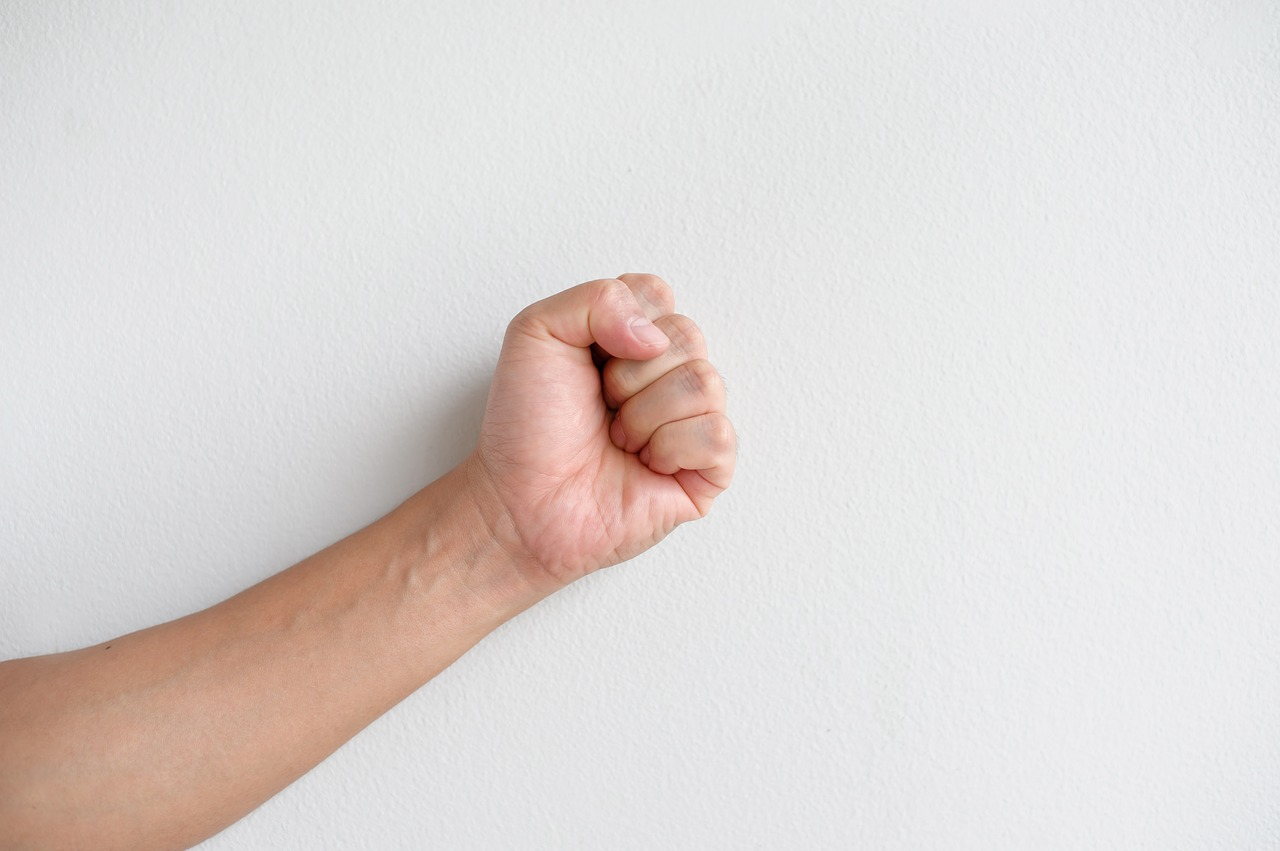fist: (475, 269, 742, 589)
